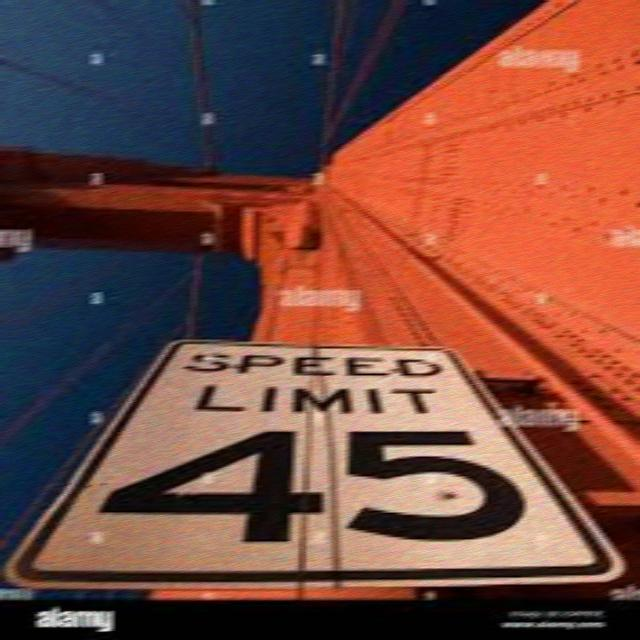speedLimit45: (9, 333, 624, 570)
